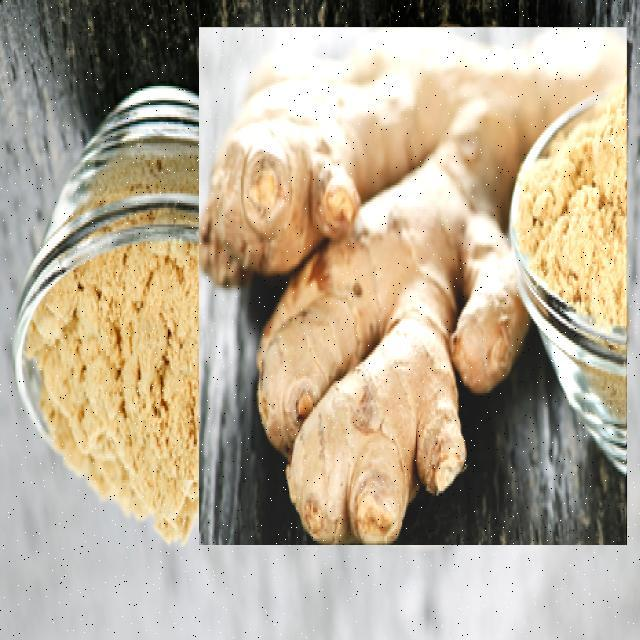ginger: (199, 27, 625, 543)
